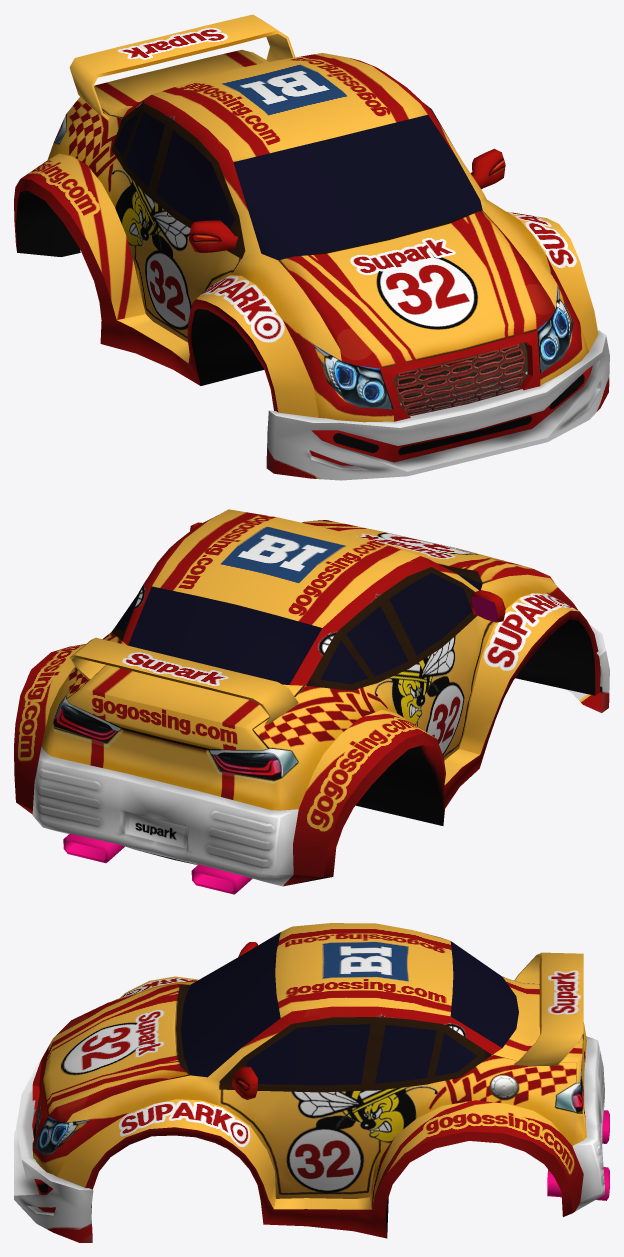
Rendered from supark.FBX.
3 views of the same model, one above another, from view 1: azimuth 30°, elevation 25°; view 2: azimuth 150°, elevation 25°; view 3: azimuth 270°, elevation 25° (orthographic). The views are drawn at different scales.
Parts seen in each view (by area): view 1: rally_supark; view 2: rally_supark; view 3: rally_supark.
Boxes of the visible parts, box(x1,y1,x2,y2) form: rally_supark: box(14, 14, 609, 480); rally_supark: box(14, 509, 609, 894); rally_supark: box(14, 923, 609, 1242).
Bounding box in the file's own units: 0.3396 × 0.2055 × 0.5298.
